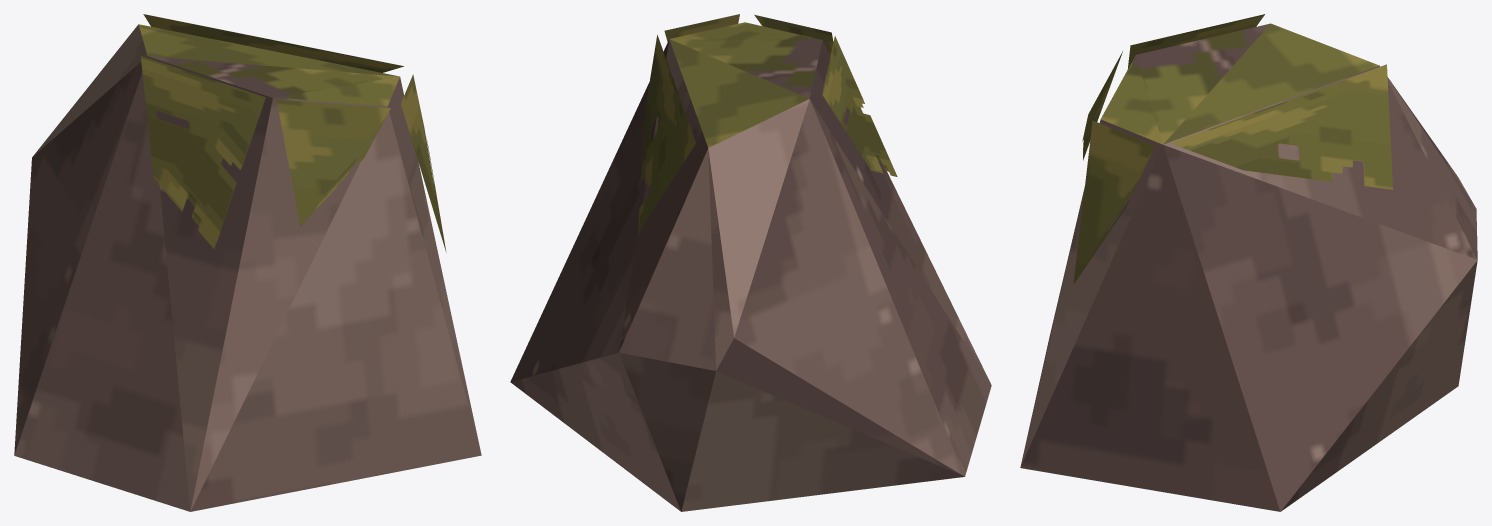
File: SM_RK01_BoulderSmall.fbx
3 renders of one model, left to right at view 1: azimuth 30°, elevation 25°; view 2: azimuth 150°, elevation 25°; view 3: azimuth 270°, elevation 25°, orthographic. The views are drawn at different scales.
Parts seen in each view (by area): view 1: RK01_Rock, RK01_Moss, RK01_RockTop; view 2: RK01_Rock, RK01_RockTop, RK01_Moss; view 3: RK01_Rock, RK01_Moss, RK01_RockTop.
Boxes of the visible parts, x1,y1,x2,y2 form: RK01_Rock: [14, 24, 481, 511]; RK01_Moss: [140, 14, 446, 251]; RK01_RockTop: [138, 24, 399, 106]; RK01_Rock: [510, 39, 991, 511]; RK01_RockTop: [669, 22, 822, 147]; RK01_Moss: [638, 14, 897, 231]; RK01_Rock: [1020, 65, 1477, 511]; RK01_Moss: [1073, 14, 1392, 284]; RK01_RockTop: [1101, 23, 1379, 144].
Size of the model in its own units: 0.6 by 0.4664 by 0.55.
